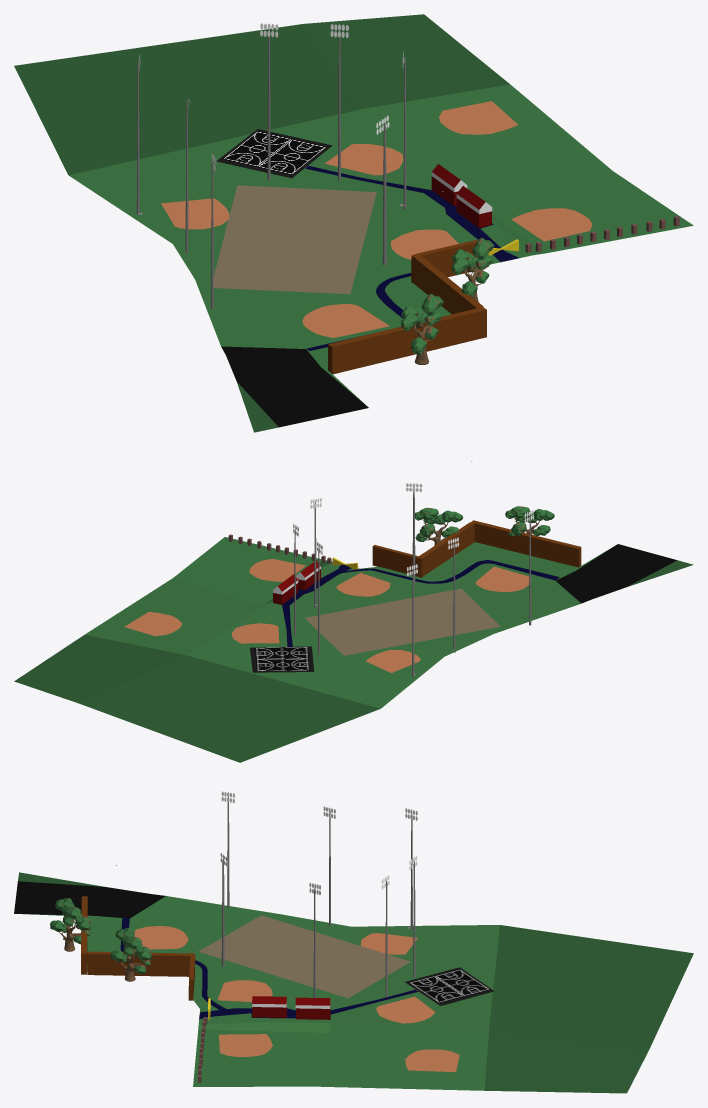
Rendered from capefield17.glb.
3 views of the same model, one above another, from view 1: azimuth 30°, elevation 25°; view 2: azimuth 150°, elevation 25°; view 3: azimuth 270°, elevation 25° (orthographic). The views are drawn at different scales.
Visible parts, largest first — view 1: capefieldall.006, tree_Cube.002, tree_Cube.001; view 2: capefieldall.006, tree_Cube.001, tree_Cube.002; view 3: capefieldall.006, tree_Cube.001, tree_Cube.002.
Boxes of the visible parts, x1=… form: capefieldall.006: x1=14, y1=14, x2=693, y2=432; tree_Cube.002: x1=401, y1=293, x2=443, y2=364; tree_Cube.001: x1=451, y1=237, x2=494, y2=302; capefieldall.006: x1=14, y1=461, x2=693, y2=762; tree_Cube.001: x1=415, y1=507, x2=463, y2=545; tree_Cube.002: x1=505, y1=506, x2=554, y2=536; capefieldall.006: x1=14, y1=791, x2=693, y2=1093; tree_Cube.001: x1=110, y1=928, x2=151, y2=981; tree_Cube.002: x1=50, y1=898, x2=91, y2=951.
Bounding box in the file's own units: 0.3737 × 0.104 × 0.508.
15 materials, 1 textured.
